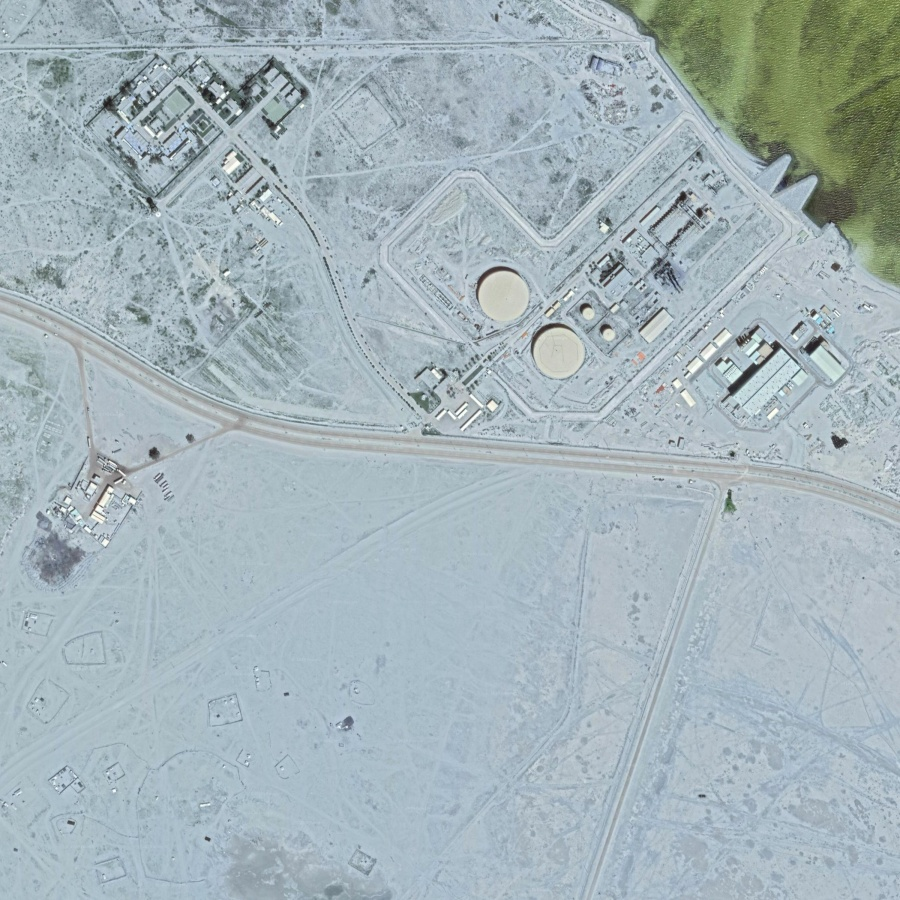PowerPlant: (455, 161, 860, 448)
